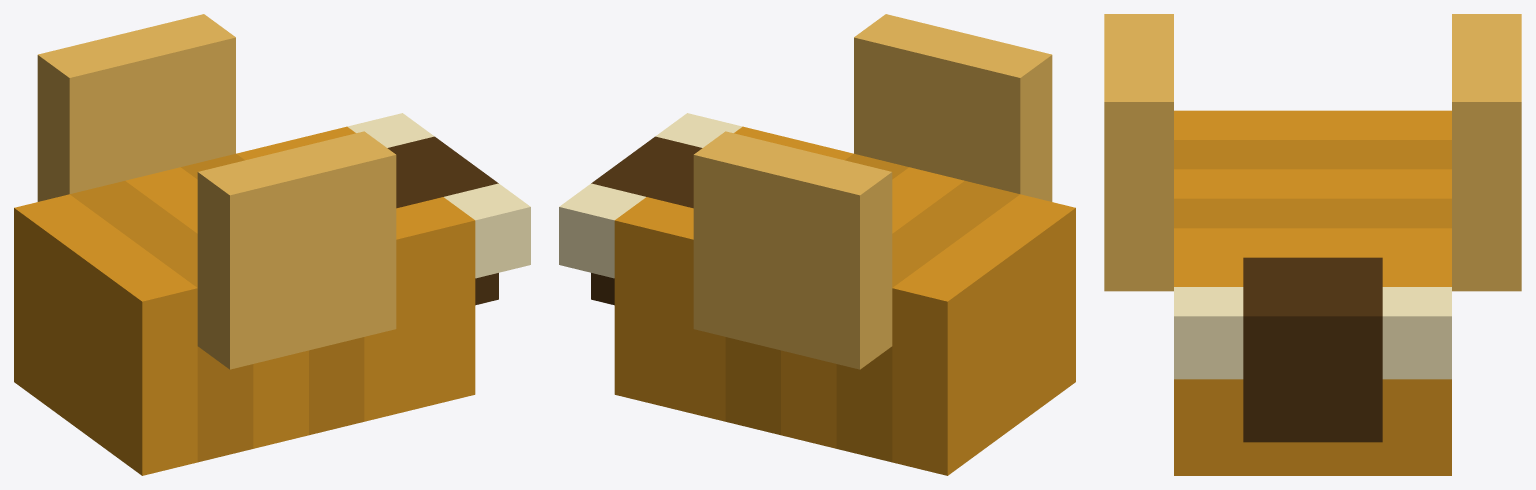
The model's file is bug.glb.
3 renders of one model, left to right at view 1: azimuth 30°, elevation 25°; view 2: azimuth 150°, elevation 25°; view 3: azimuth 270°, elevation 25°, orthographic. The views are drawn at different scales.
Visible parts, largest first — view 1: model_0; view 2: model_0; view 3: model_0.
Boxes of the visible parts, box(x1,y1,x2,y2) form: model_0: box(14, 14, 530, 475); model_0: box(559, 14, 1075, 475); model_0: box(1104, 14, 1521, 475).
Bounding box in the file's own units: 0.28 × 0.2 × 0.24.
